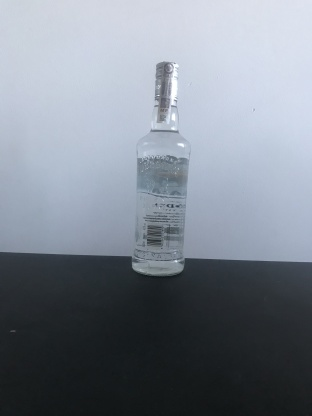nakretka: (152, 57, 181, 104)
